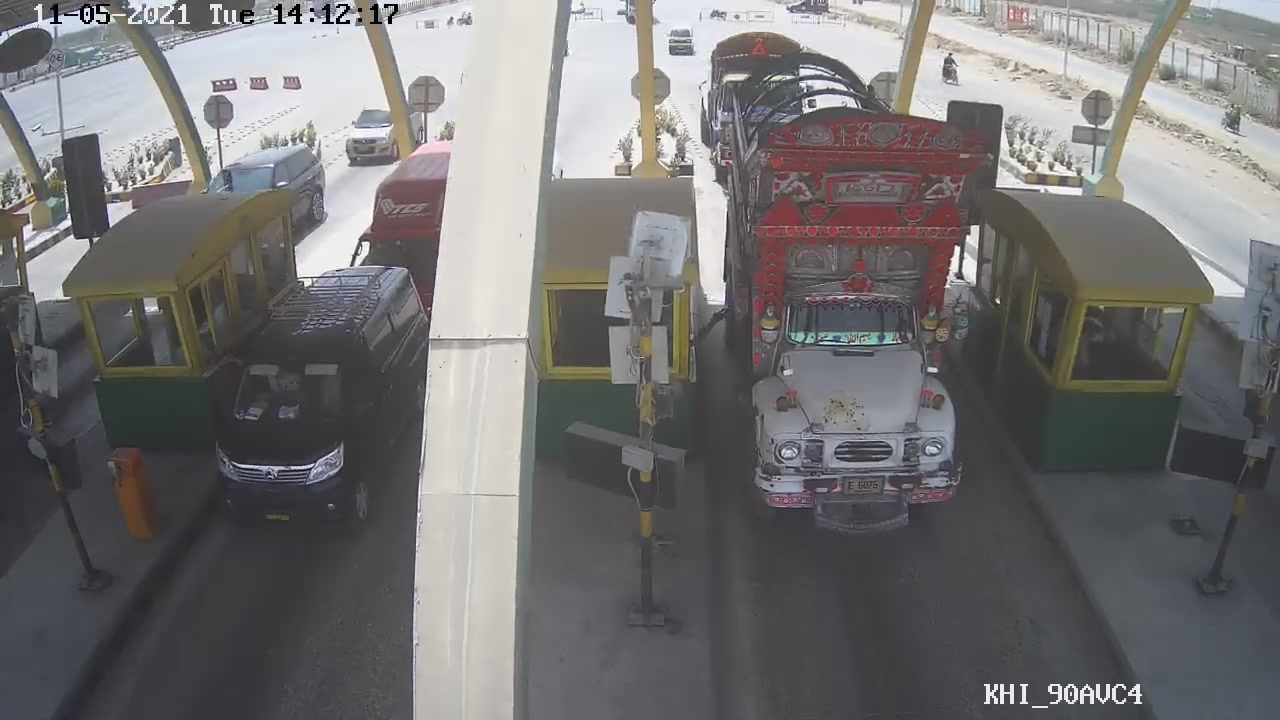F5: (715, 70, 1002, 540)
